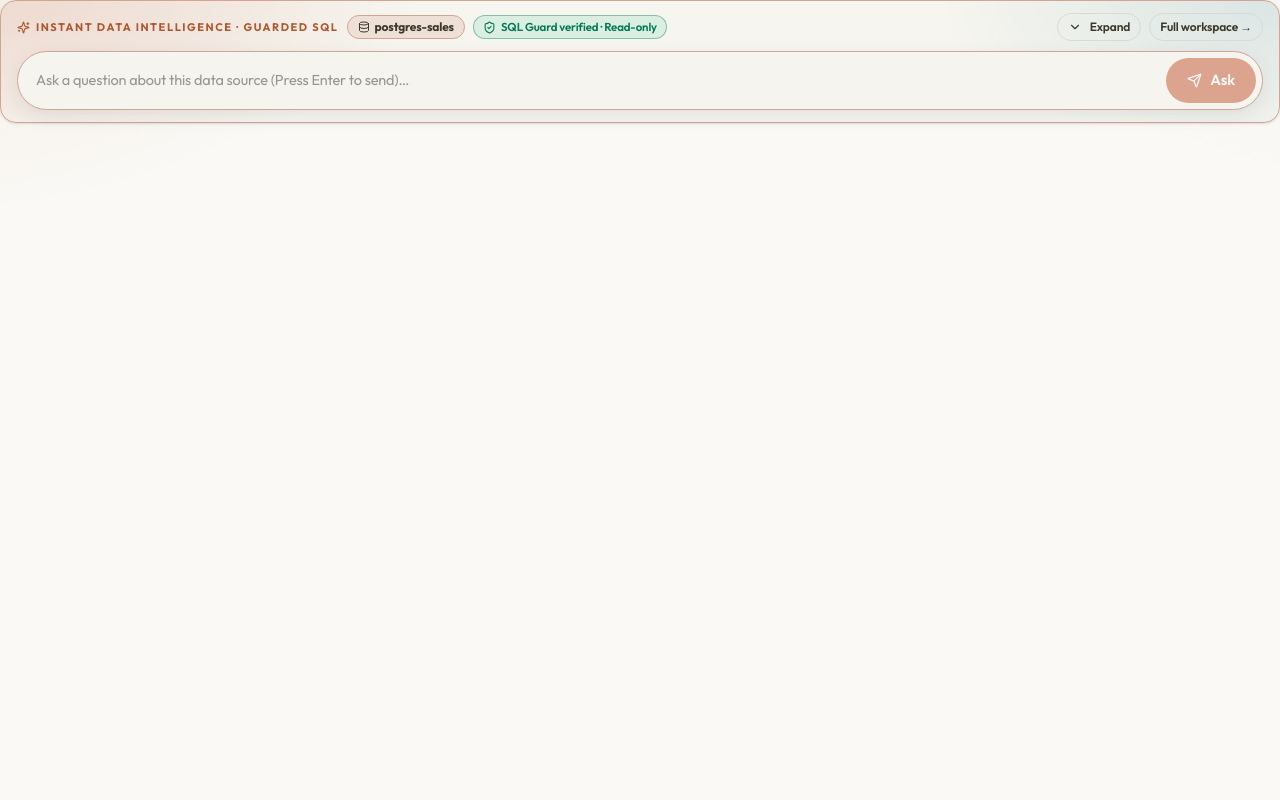
Scenario: ChatStudio › loads datasources, sends a question, and renders guarded SQL and rows
Type "Compare sales by region" into the field with placeholder "Ask a question about this data source" at coordinates (594, 80), box [32,61,1156,99]
Then press Enter
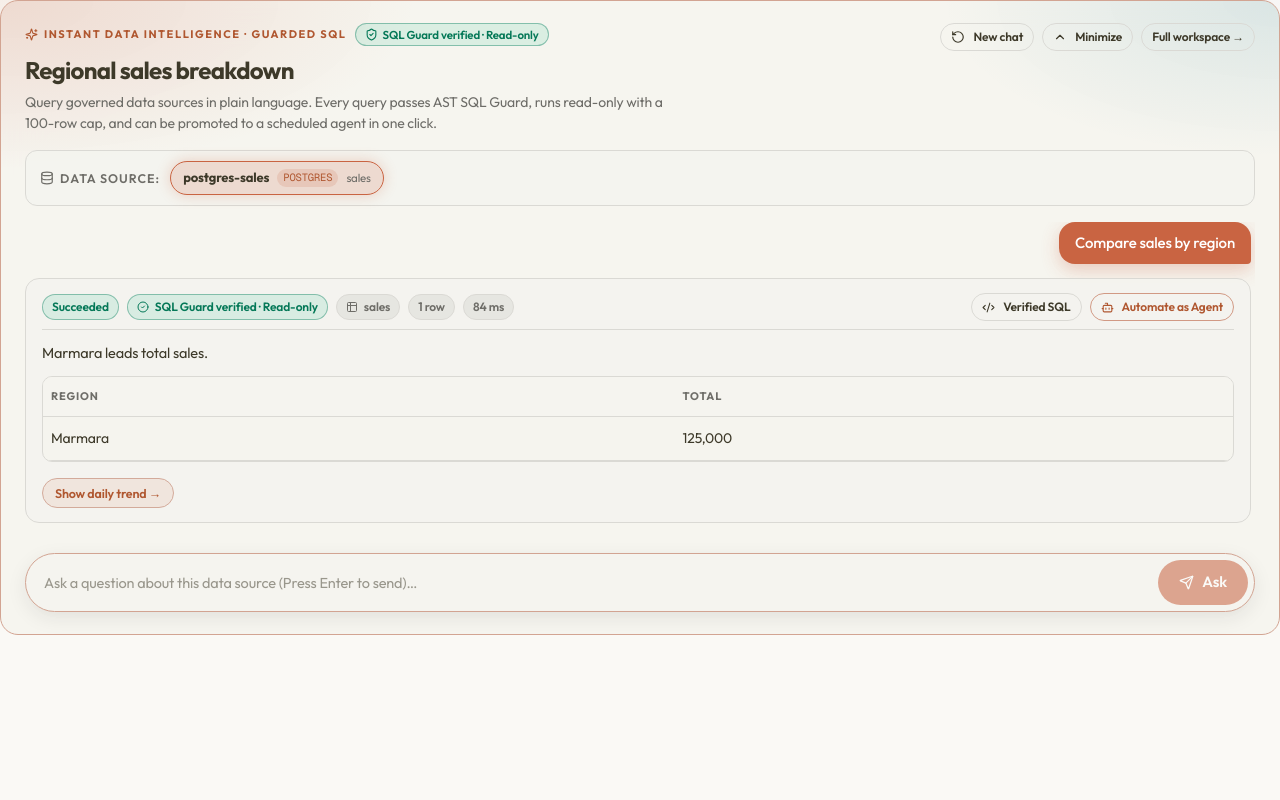
Now the text "Marmara leads total sales." is shown, box [42,343,208,362]
Now the text "Marmara" is shown, box [43,416,675,460]
Now the text "125,000" is shown, box [675,416,1233,460]
Click the button "Verified SQL" at coordinates (1026, 307), box [971,293,1082,321]
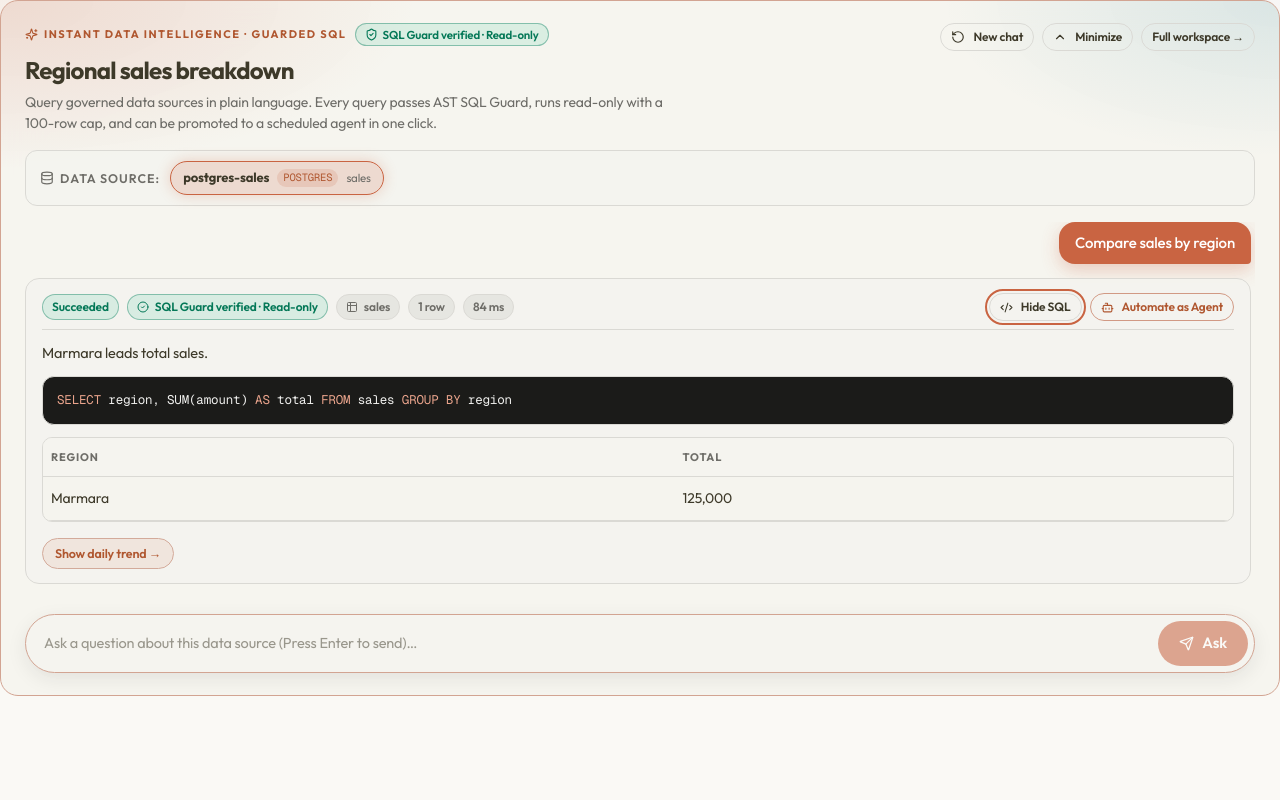
Now the element with class "code" shows "SELECT region, SUM(amount)", box [42,376,1234,425]
